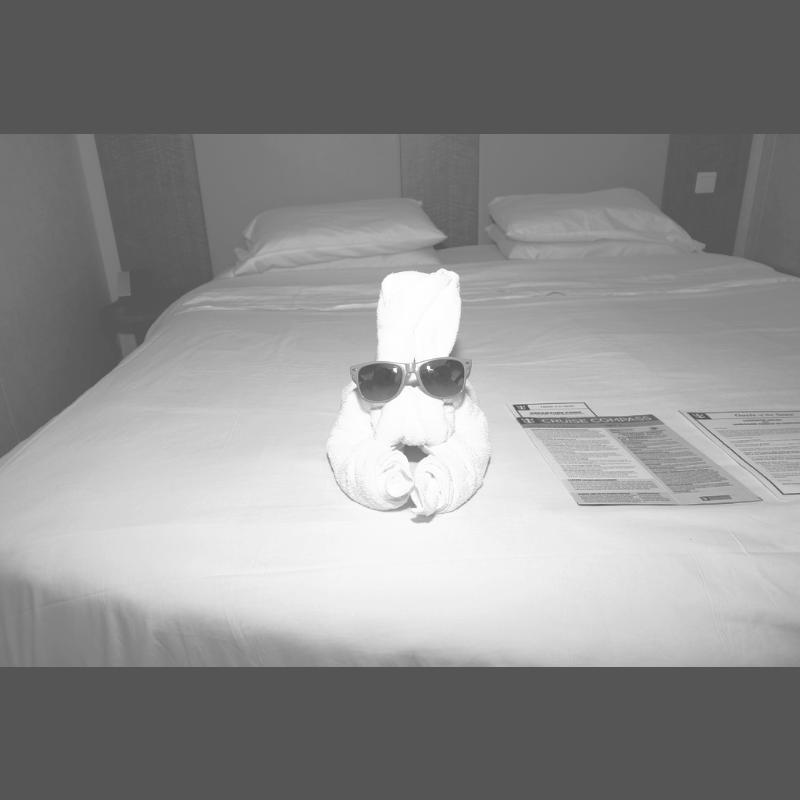pillow: (234, 198, 444, 274), (485, 193, 705, 245), (484, 228, 698, 260)
